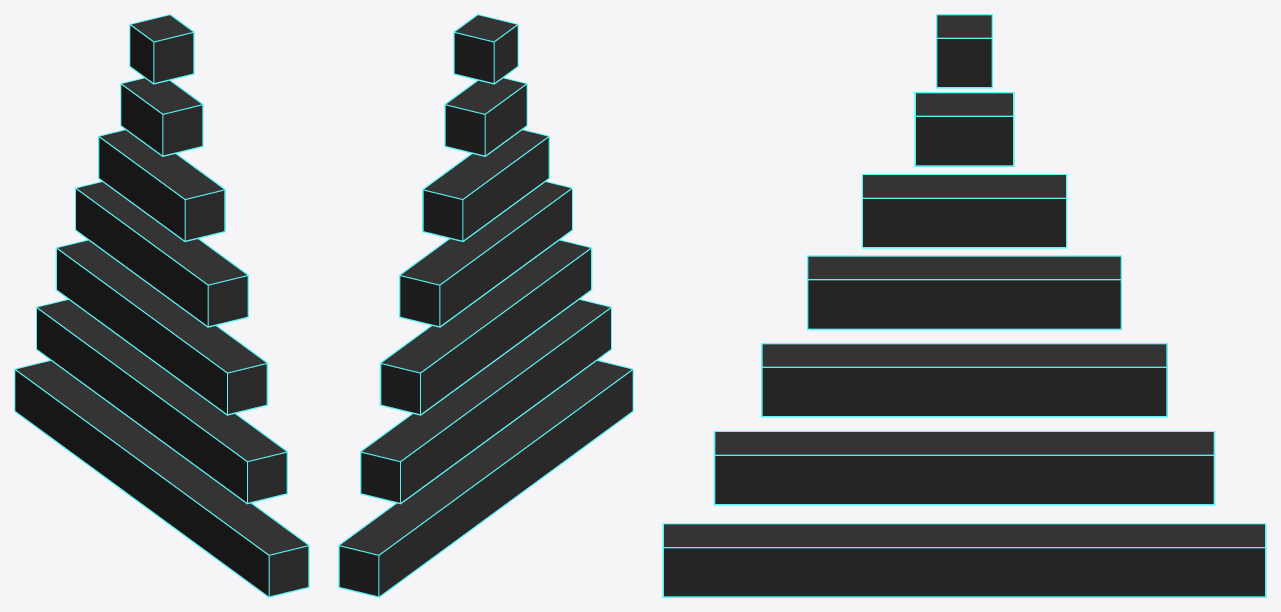
File: PLATAFORMAS.fbx
The picture shows the model from 3 angles, left to right: view 1: azimuth 30°, elevation 25°; view 2: azimuth 150°, elevation 25°; view 3: azimuth 270°, elevation 25°; orthographic projection. The views are drawn at different scales.
Parts seen in each view (by area): view 1: PLATAFORMA.1, PLATAFORMA.2, PLATAFORMA.3, PLATAFORMA.4, PLATAFORMA.5, PLATAFORMA.6, PLATAFORMA.7; view 2: PLATAFORMA.1, PLATAFORMA.2, PLATAFORMA.3, PLATAFORMA.4, PLATAFORMA.5, PLATAFORMA.6, PLATAFORMA.7; view 3: PLATAFORMA.1, PLATAFORMA.2, PLATAFORMA.3, PLATAFORMA.4, PLATAFORMA.5, PLATAFORMA.6, PLATAFORMA.7.
Part boxes in pixels (x1,y1,x2,y2): PLATAFORMA.1: (14,360,309,597); PLATAFORMA.2: (36,299,287,504); PLATAFORMA.3: (55,239,268,415); PLATAFORMA.4: (75,181,248,327); PLATAFORMA.5: (98,129,225,241); PLATAFORMA.6: (120,77,203,156); PLATAFORMA.7: (129,14,194,84); PLATAFORMA.1: (338,360,633,597); PLATAFORMA.2: (360,299,611,504); PLATAFORMA.3: (379,239,592,415); PLATAFORMA.4: (399,181,572,327); PLATAFORMA.5: (422,129,549,241); PLATAFORMA.6: (444,77,527,156); PLATAFORMA.7: (453,14,518,84); PLATAFORMA.1: (662,523,1266,597); PLATAFORMA.2: (713,431,1215,505); PLATAFORMA.3: (761,343,1167,417); PLATAFORMA.4: (807,255,1121,330); PLATAFORMA.5: (861,174,1067,248); PLATAFORMA.6: (914,92,1014,166); PLATAFORMA.7: (936,14,992,88).
Bounding box in the file's own units: 56.12 × 616 × 602.
